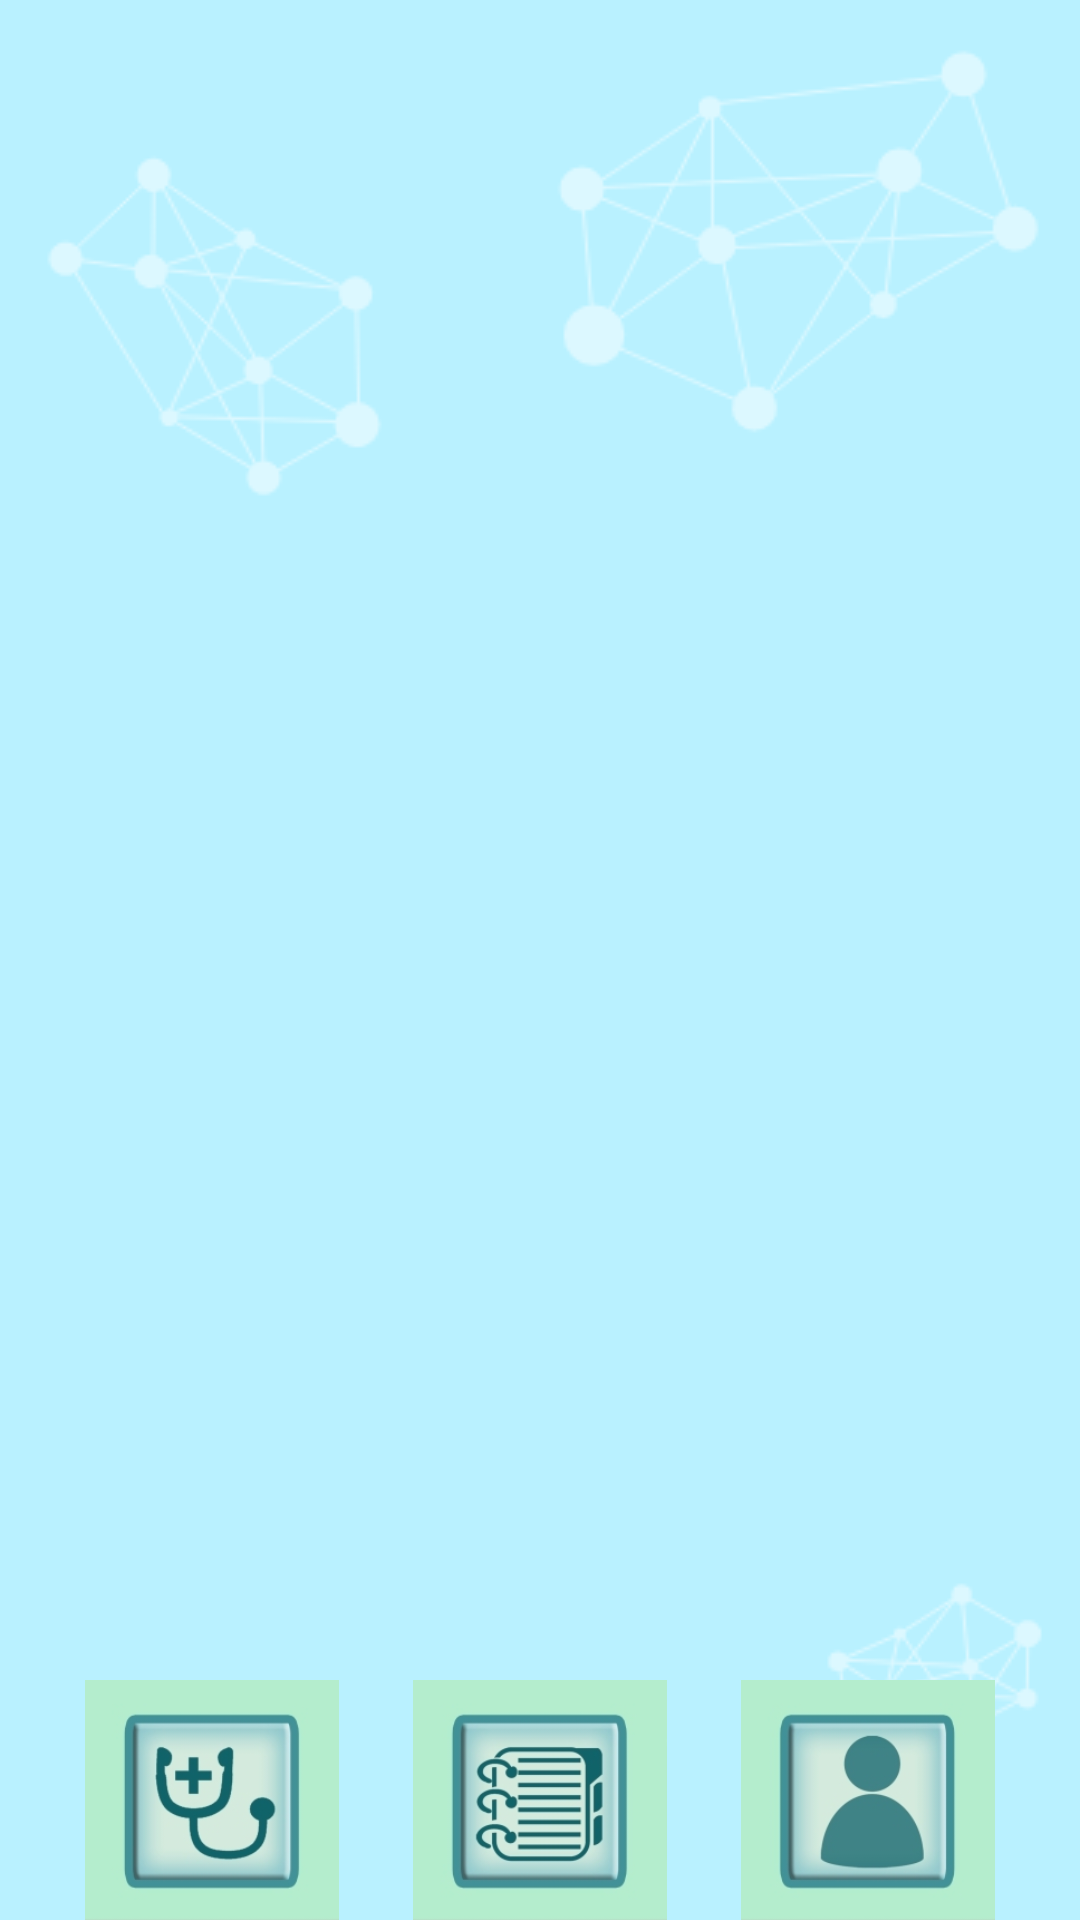

Screen size 1080 x 1920. Icon name, then its center in pixels as (x,y):
checkup guide: (212,1800)
health record: (540,1800)
profile data: (886,1800)
